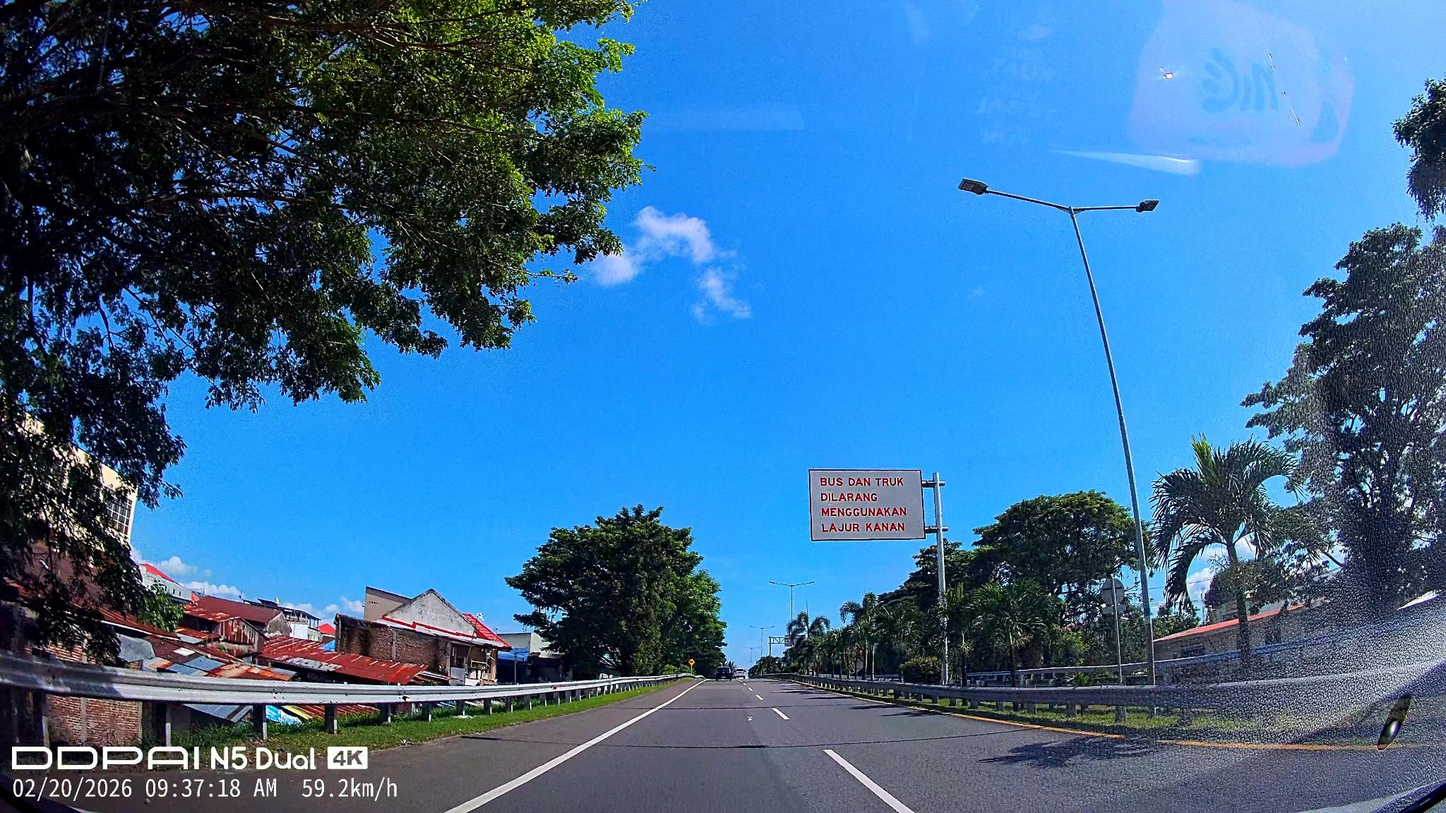rambu_teks: (808, 467, 926, 542)
